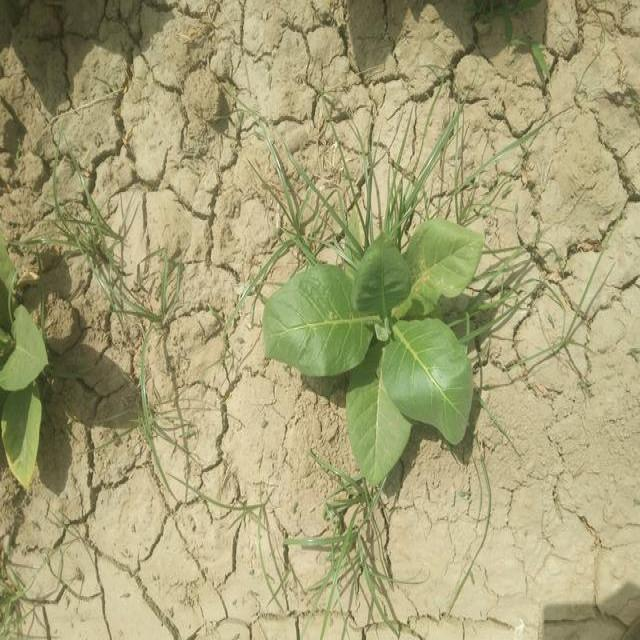crop: (266, 222, 482, 482)
